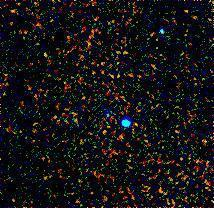star: (122, 111, 152, 141)
